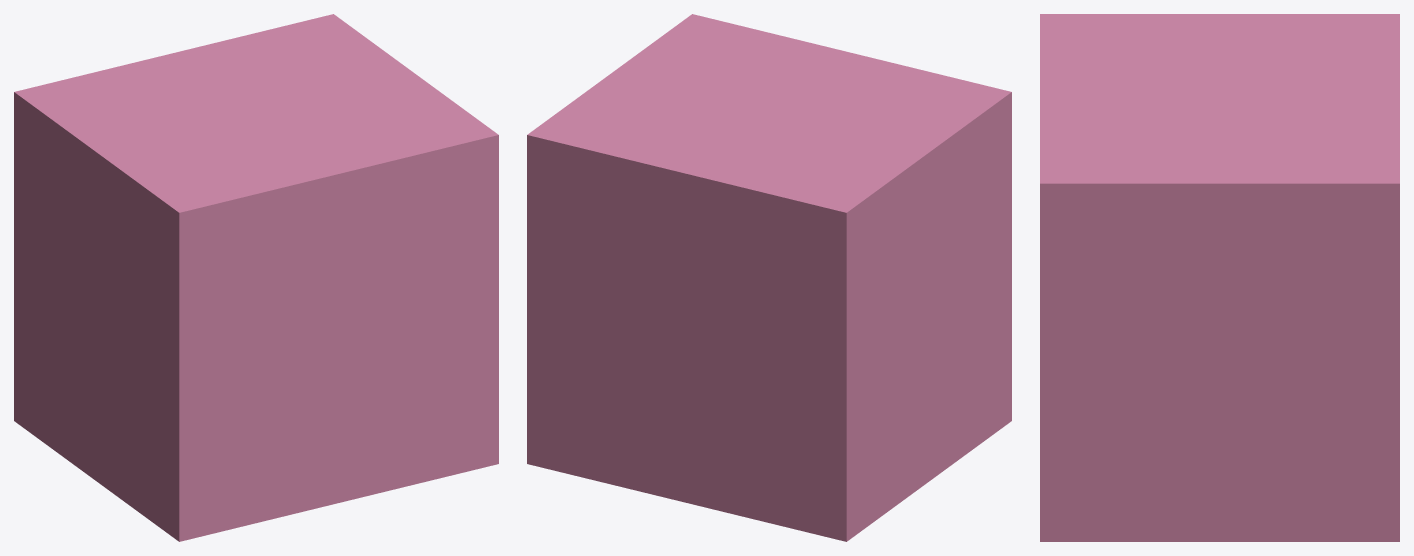
Rendered from tree_oak_large_b.dae.
3 renders of one model, left to right at view 1: azimuth 30°, elevation 25°; view 2: azimuth 150°, elevation 25°; view 3: azimuth 270°, elevation 25°, orthographic. The views are drawn at different scales.
Parts seen in each view (by area): view 1: Untitled; view 2: Untitled; view 3: Untitled.
Boxes of the visible parts, bbox=[...] form: Untitled: bbox=[14, 14, 498, 541]; Untitled: bbox=[527, 14, 1011, 541]; Untitled: bbox=[1040, 14, 1399, 541].
Size of the model in its own units: 9.51 by 8.51 by 9.35.
